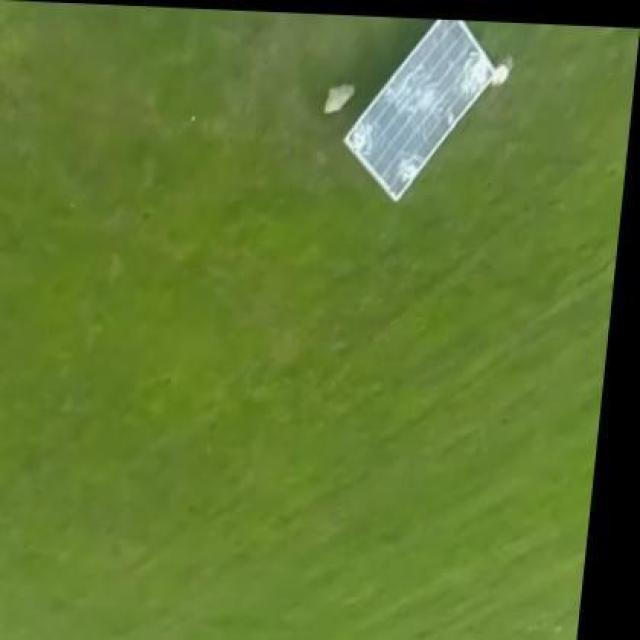cracked: (341, 18, 506, 209)
